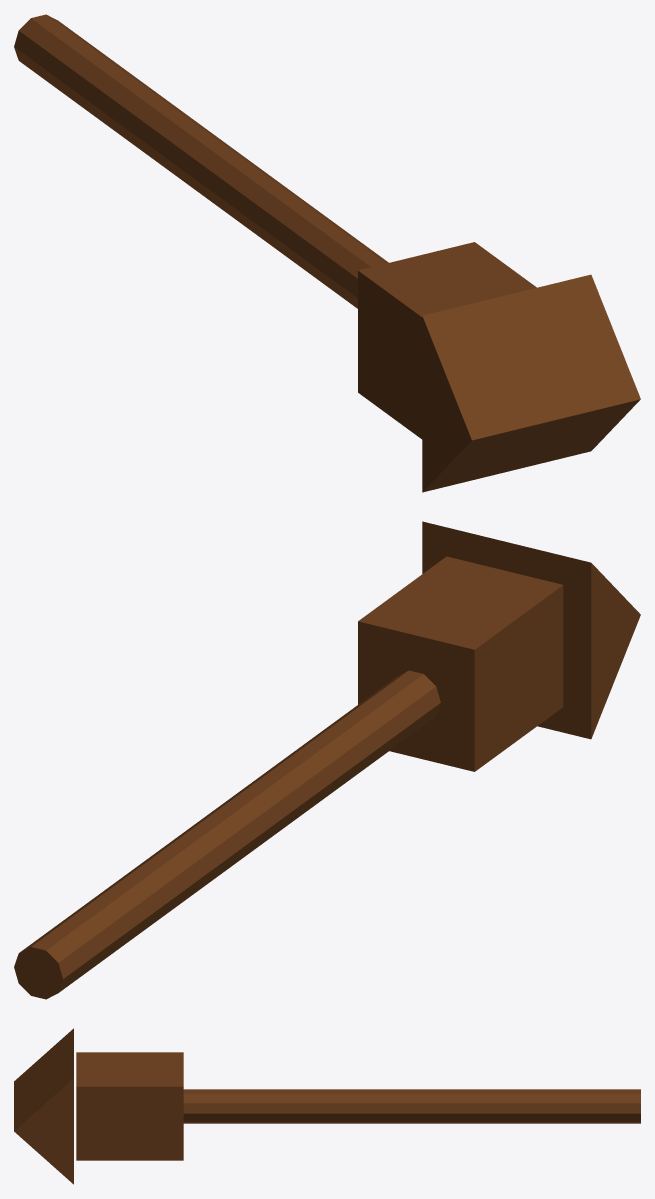
Rendered from SM_ShLampPost.obj.
3 views of the same model, one above another, from view 1: azimuth 30°, elevation 25°; view 2: azimuth 150°, elevation 25°; view 3: azimuth 270°, elevation 25° (orthographic). The views are drawn at different scales.
Size of the model in its own units: 55 by 55 by 292.
